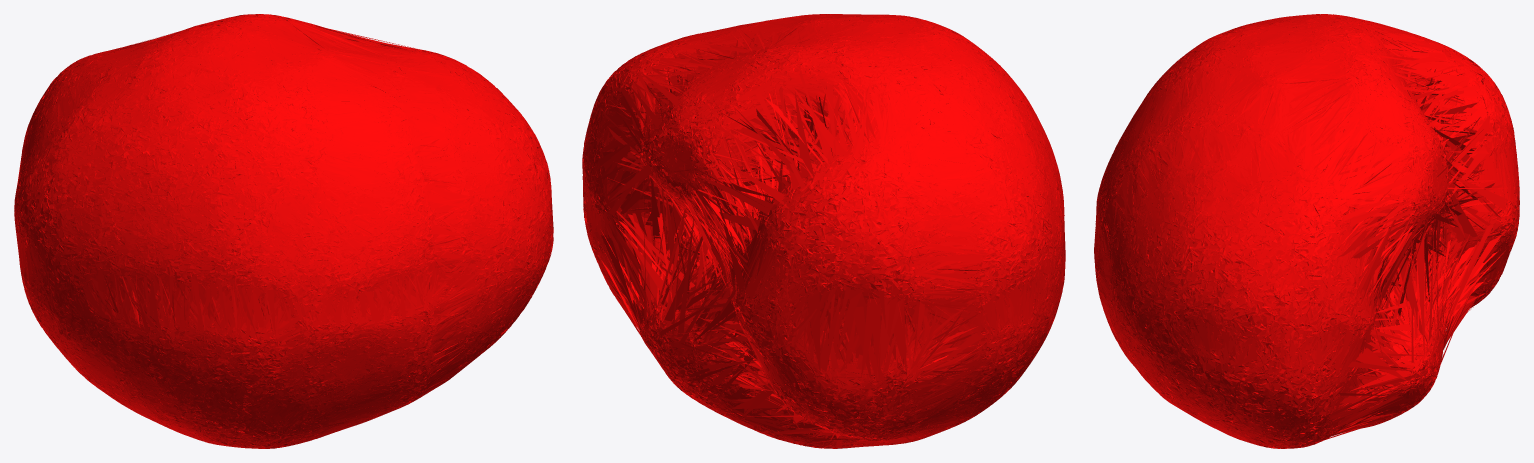
File: 0050000_graph.dae
3 views of the same model, side by side, from view 1: azimuth 30°, elevation 25°; view 2: azimuth 150°, elevation 25°; view 3: azimuth 270°, elevation 25° (orthographic). The views are drawn at different scales.
Parts seen in each view (by area): view 1: node0; view 2: node0; view 3: node0.
Boxes of the visible parts, x1,y1,x2,y2 form: node0: (14, 14, 553, 448); node0: (582, 14, 1065, 448); node0: (1094, 14, 1519, 448).
Bounding box in the file's own units: 185 × 146 × 153.
